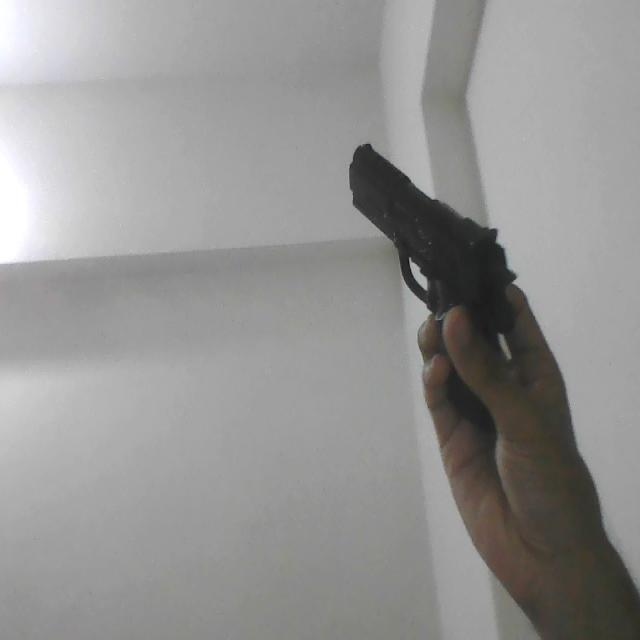handgun: (349, 142, 519, 431)
